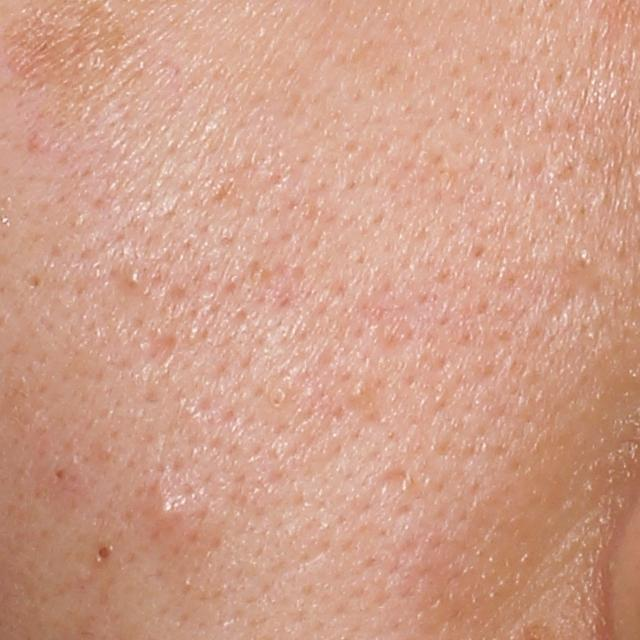atrophic_scar: (133, 330, 181, 368), (369, 463, 407, 498)
comedo: (121, 266, 148, 301), (91, 541, 117, 563)
